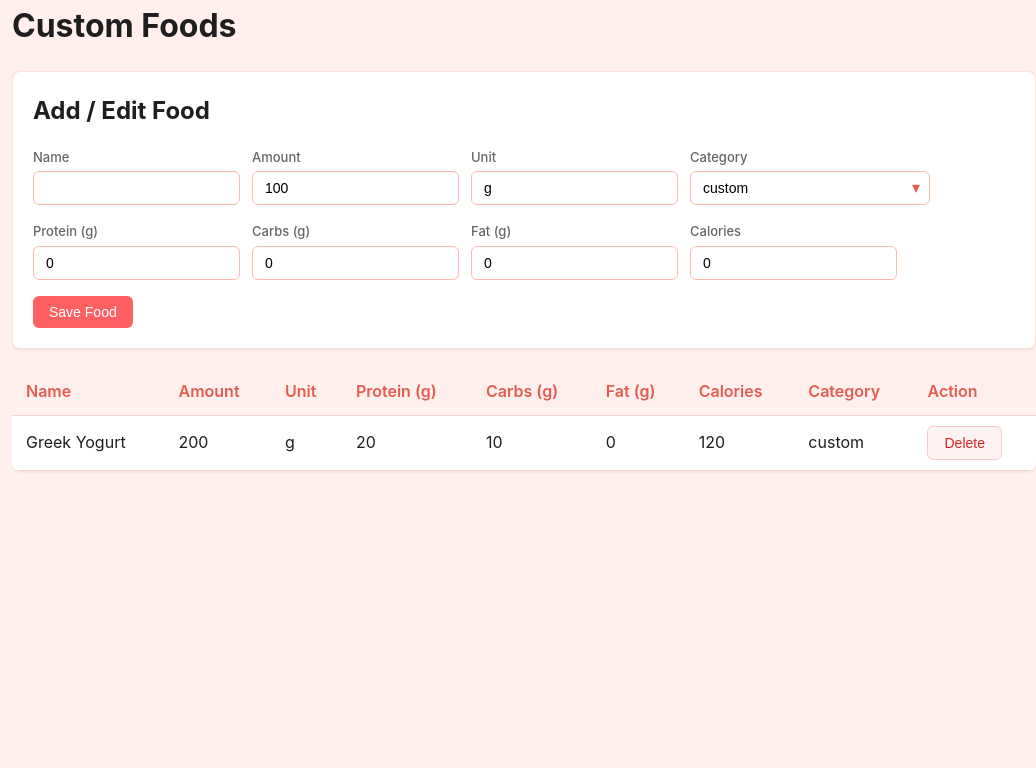
Test: searchable menu integrations › saves the selected category and restores the default category after save
Expected: the text "Greek Yogurt" is shown, [12, 415, 164, 470]
Type "Test food" into the 1st field.
click(136, 188); type("Test food")  # box [33, 171, 240, 205]
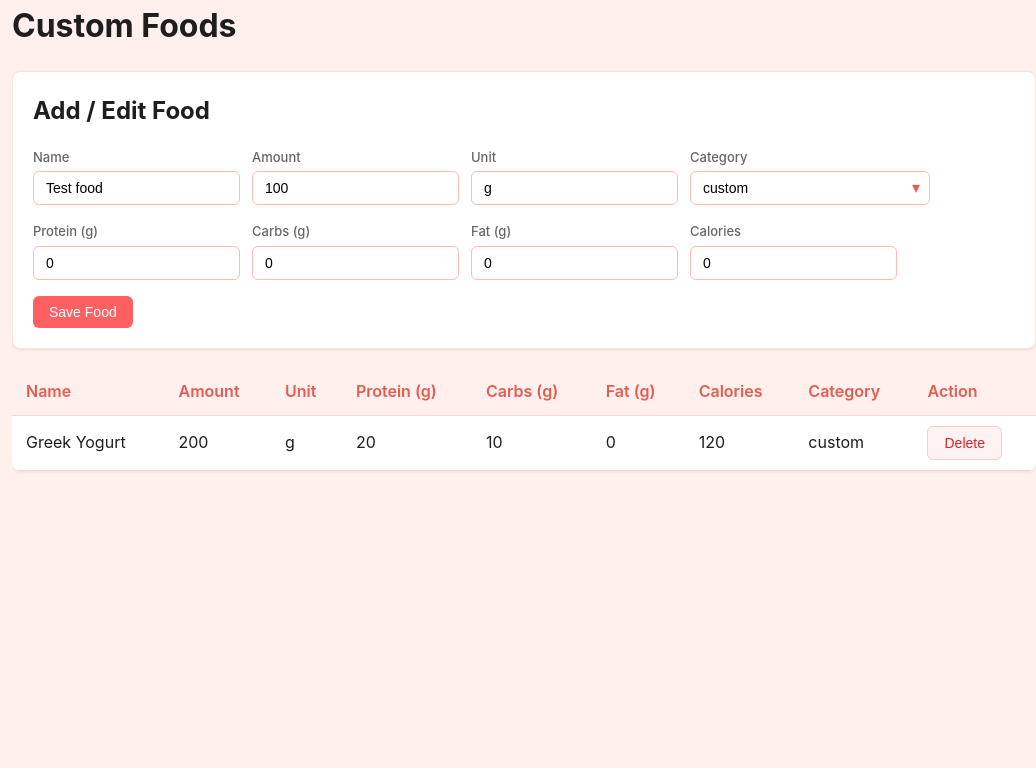
Replace the text in the dropdown labelled "Category" with "VEGETABLE" at (810, 188), box [690, 171, 930, 205]
Then press Enter
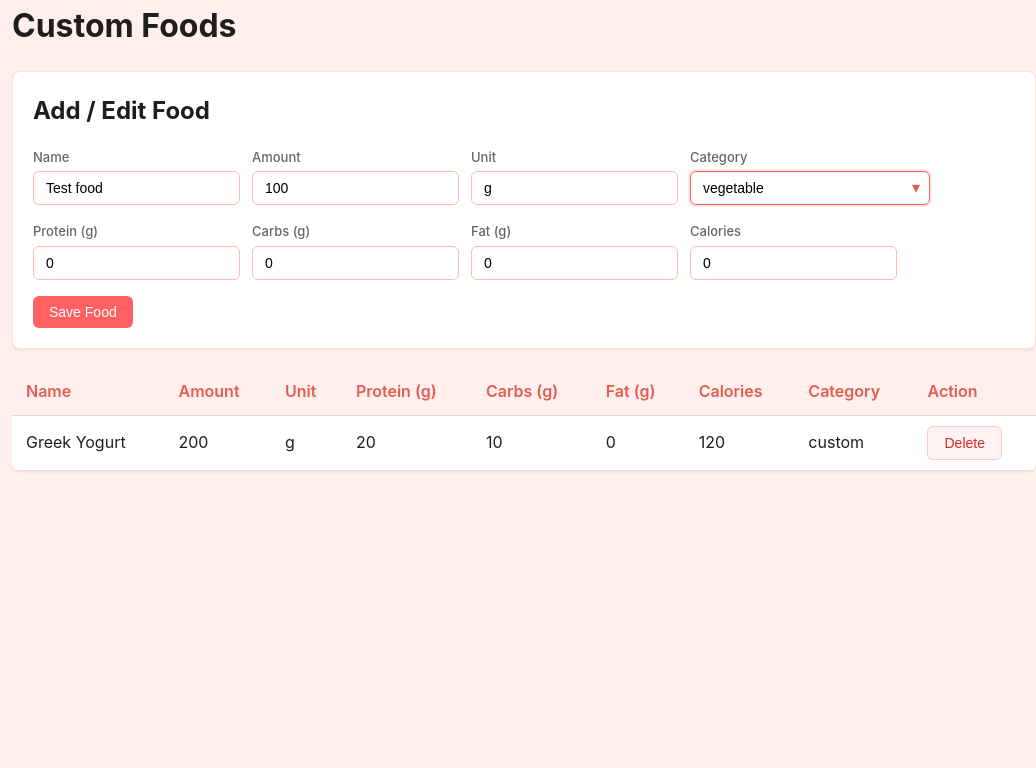
Click the button "Save Food".
click(83, 312)  # box [33, 296, 133, 328]
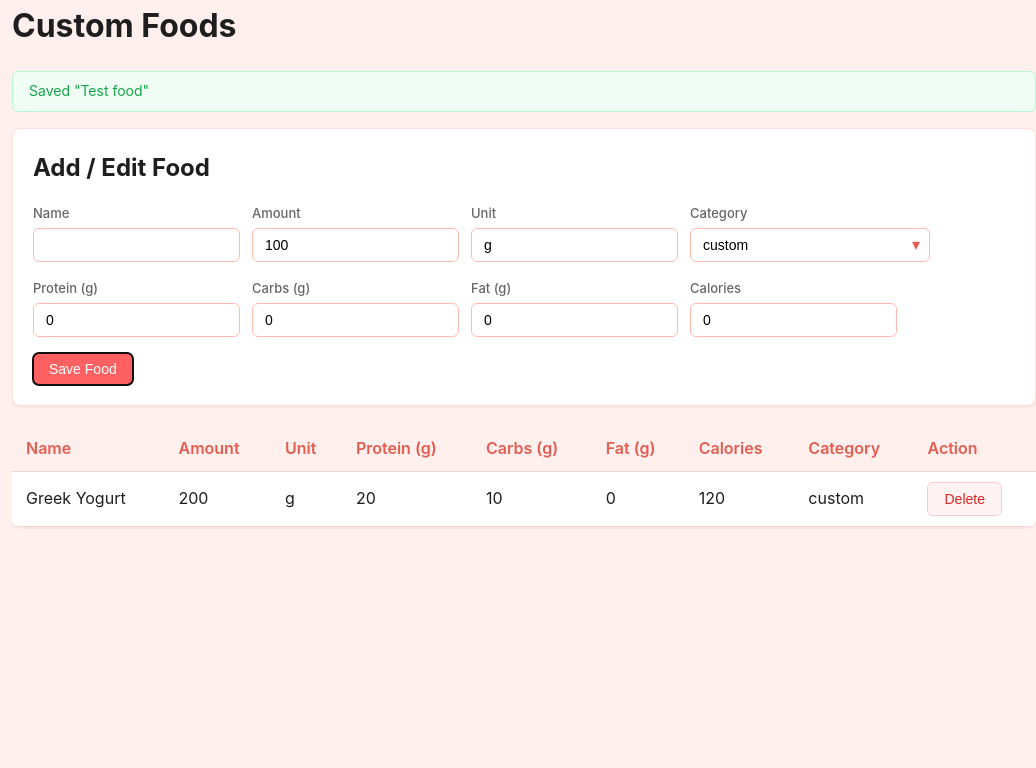
Result: the dropdown labelled "Category" holds "custom" at [690, 228, 930, 262]
